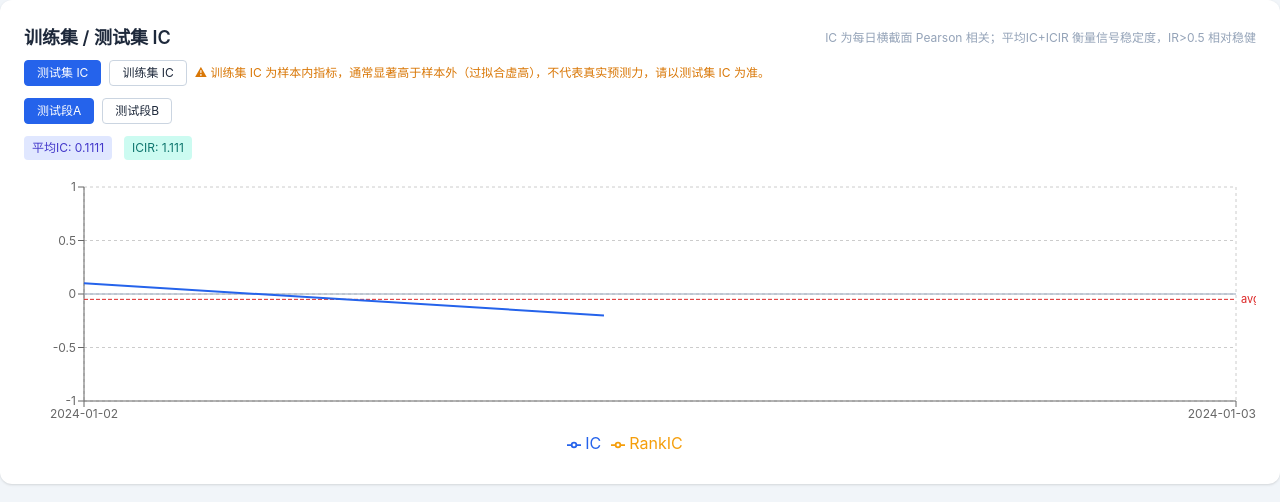
ICChart（交互） › ⭐ 切换分段 ⇒ 徽章数值跟着换（不许串味 ✗）
The width and height of the screenshot is (1280, 502).
Click the button "测试段B" at (137,111), box x1=102 y1=98 x2=172 y2=124
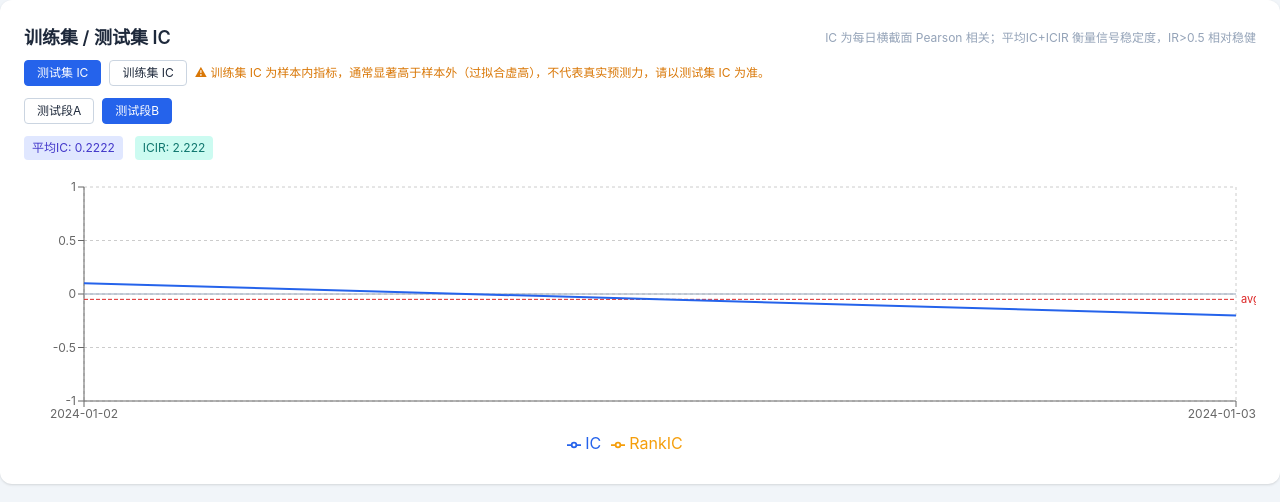
Check: the text "平均IC: 0.2222" is shown, box x1=24 y1=136 x2=123 y2=160
Check: the text "平均IC: 0.1111" is gone
